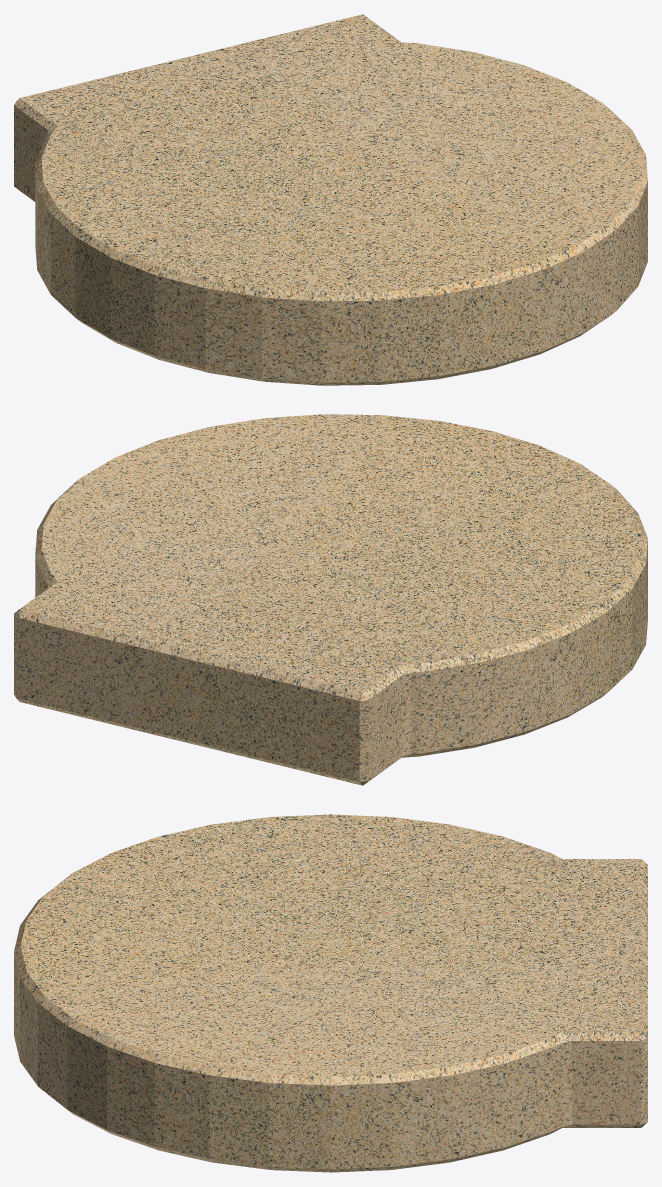
The model's file is start.obj.
The picture shows the model from 3 angles, top to bottom: view 1: azimuth 30°, elevation 25°; view 2: azimuth 150°, elevation 25°; view 3: azimuth 270°, elevation 25°; orthographic projection. The views are drawn at different scales.
Parts seen in each view (by area): view 1: Cylinder; view 2: Cylinder; view 3: Cylinder.
Boxes of the visible parts, <box> form: Cylinder: <box>14,14,647,385</box>; Cylinder: <box>14,414,647,785</box>; Cylinder: <box>14,814,647,1172</box>.
Bounding box in the file's own units: 3 × 0.5 × 3.
1 material, 1 textured.
